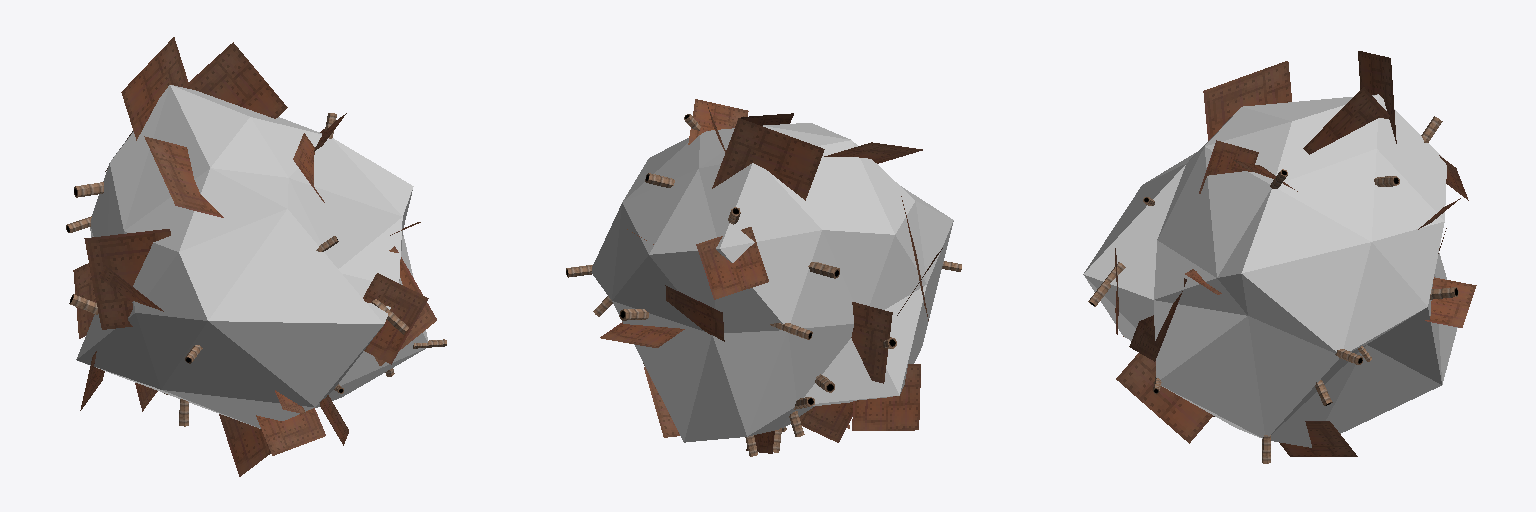
3 views of the same model, side by side, from view 1: azimuth 30°, elevation 25°; view 2: azimuth 150°, elevation 25°; view 3: azimuth 270°, elevation 25° (orthographic).
Visible parts, largest first — view 1: Icosphere, Plane, Cylinder; view 2: Icosphere, Plane, Cylinder; view 3: Icosphere, Plane, Cylinder.
Part boxes in pixels (left/top/right/bottom): Icosphere: left=76, top=85, right=427, bottom=428; Plane: left=73, top=37, right=436, bottom=476; Cylinder: left=66, top=113, right=446, bottom=426; Icosphere: left=591, top=123, right=953, bottom=442; Plane: left=600, top=99, right=942, bottom=453; Cylinder: left=566, top=114, right=961, bottom=456; Icosphere: left=1083, top=94, right=1457, bottom=447; Plane: left=1115, top=51, right=1476, bottom=456; Cylinder: left=1088, top=116, right=1458, bottom=463.
Size of the model in its own units: 2.25 by 2.44 by 2.35.
4 materials, 3 textured.